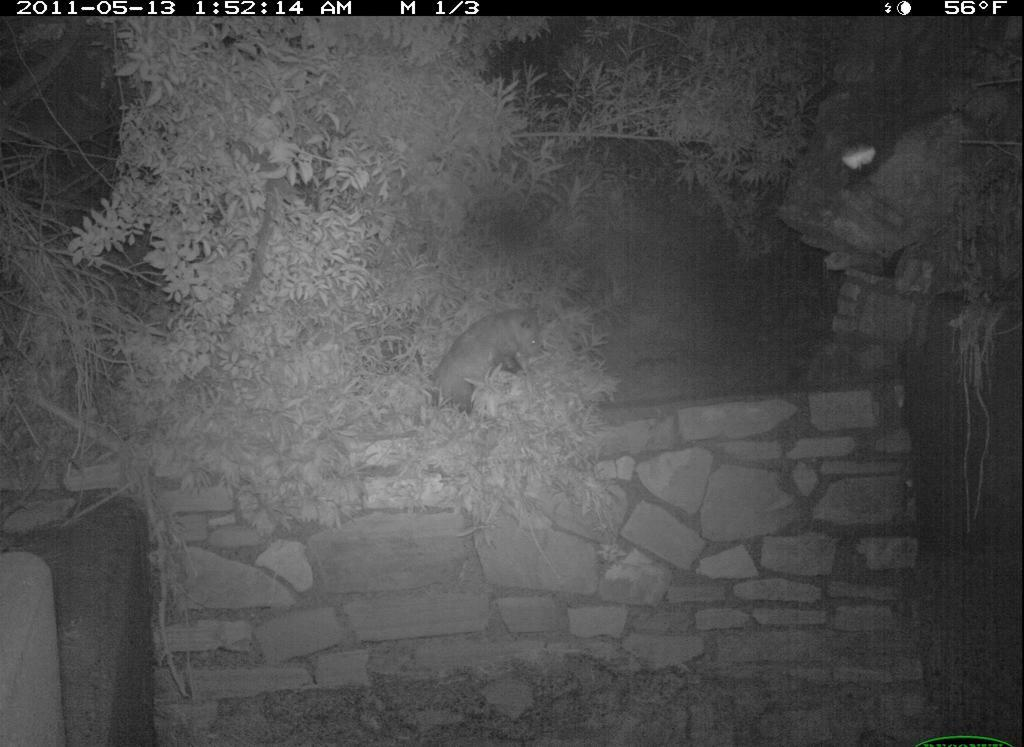opossum: (409, 304, 551, 424)
